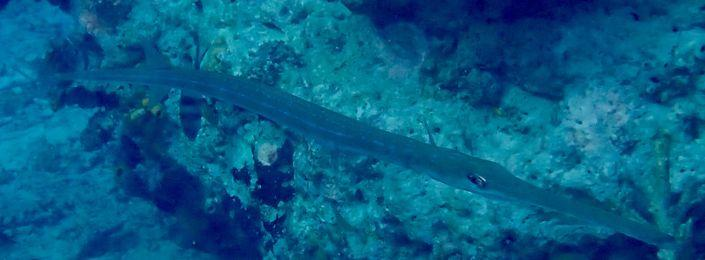Fistularia commersonii: (45, 33, 681, 255)
